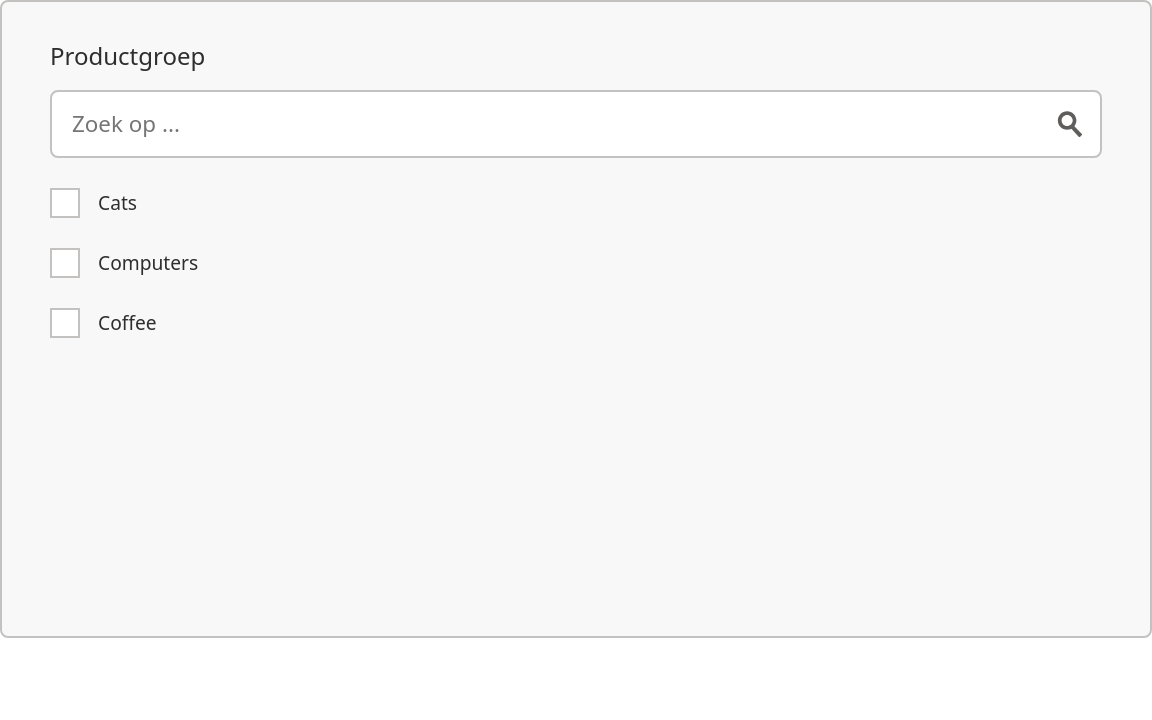
Scenario: MultiSelectFilter › filters items based on search input
Check: the text "Computers" is shown, box [98,249,198,276]
Check: the text "Coffee" is shown, box [98,309,157,336]
Type "Co" into the field.
click(576, 124); type("Co")  # box [50,90,1102,158]
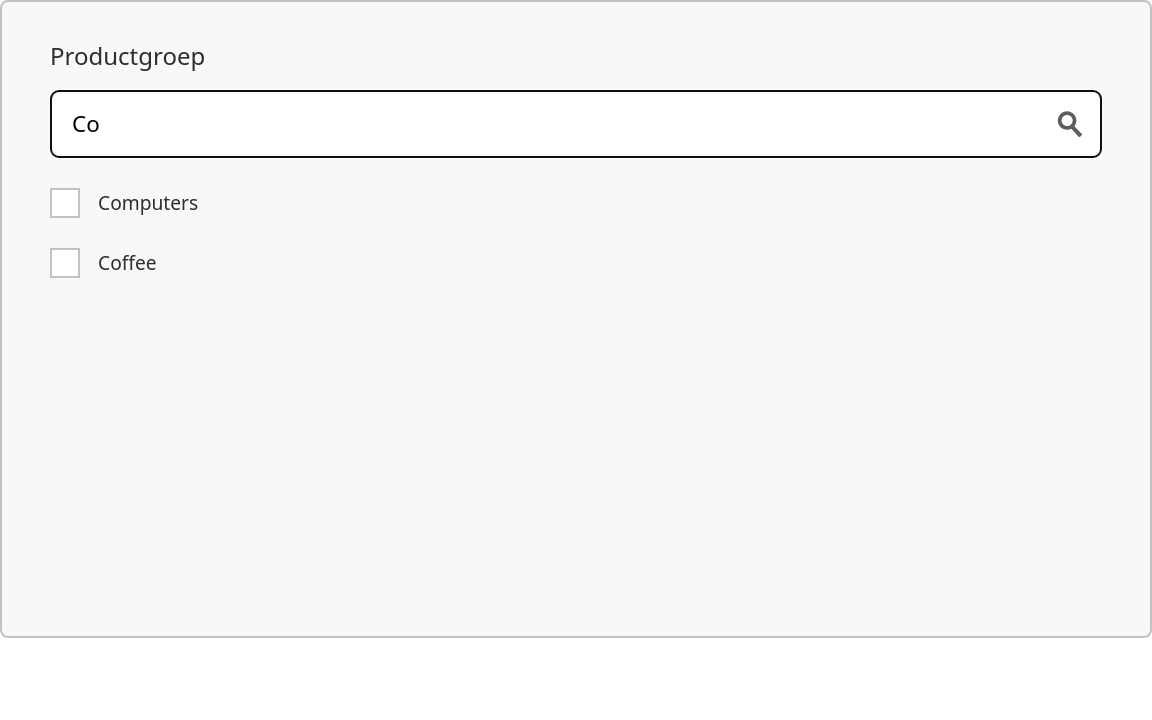
Check: the text "Computers" is shown, box [98,189,198,216]
Check: the text "Cats" is gone
